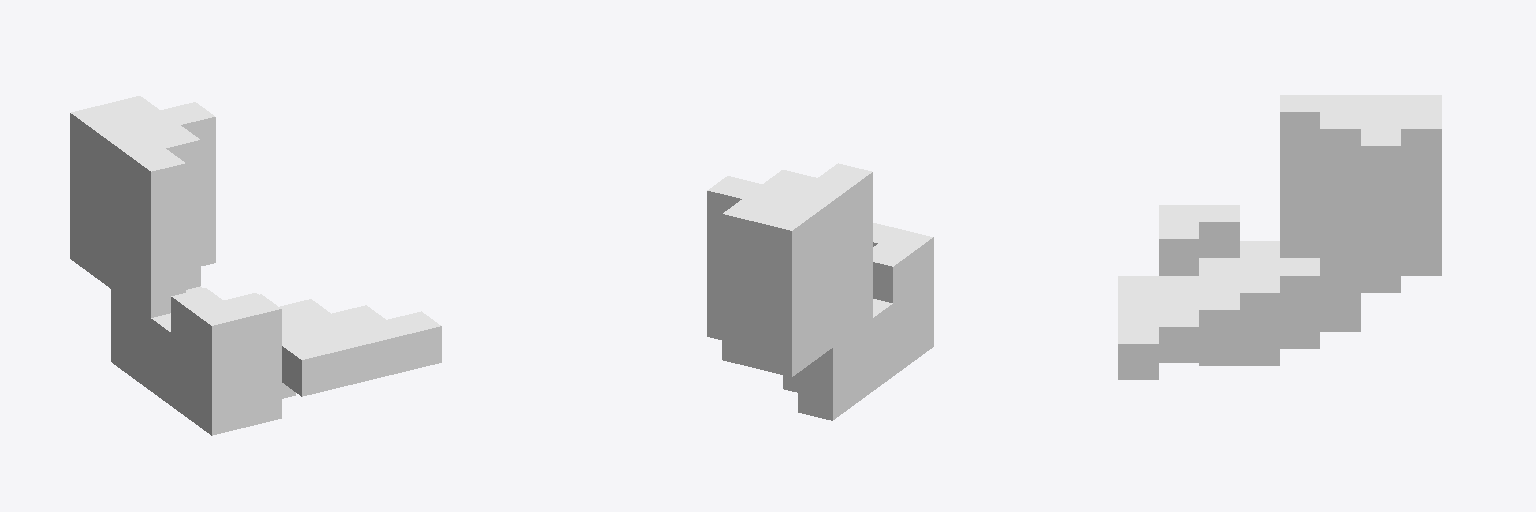
The model's file is Koala_F.obj.
3 renders of one model, left to right at view 1: azimuth 30°, elevation 25°; view 2: azimuth 150°, elevation 25°; view 3: azimuth 270°, elevation 25°, orthographic.
Visible parts, largest first — view 1: object 1; view 2: object 1; view 3: object 1.
Boxes of the visible parts, x1,y1,x2,y2 form: object 1: [70, 96, 441, 435]; object 1: [707, 163, 933, 420]; object 1: [1118, 95, 1441, 379].
Bounding box in the file's own units: 0.6 × 0.6 × 0.8.